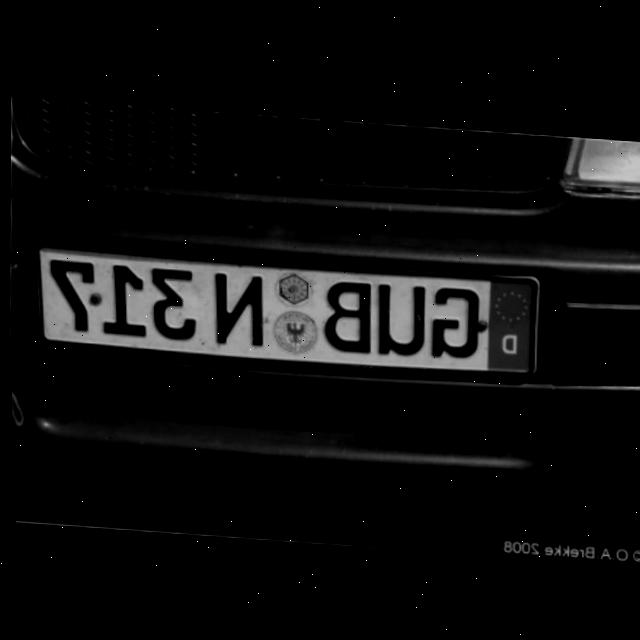license-plates: (37, 246, 537, 374)
